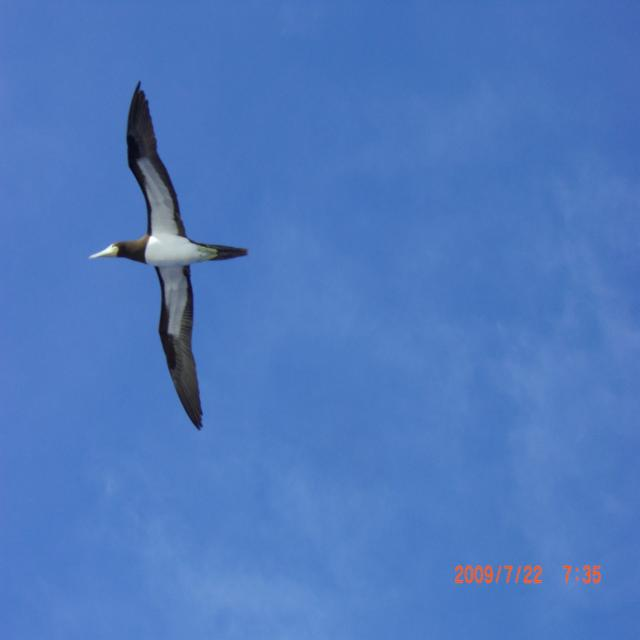bird: (82, 72, 263, 424)
